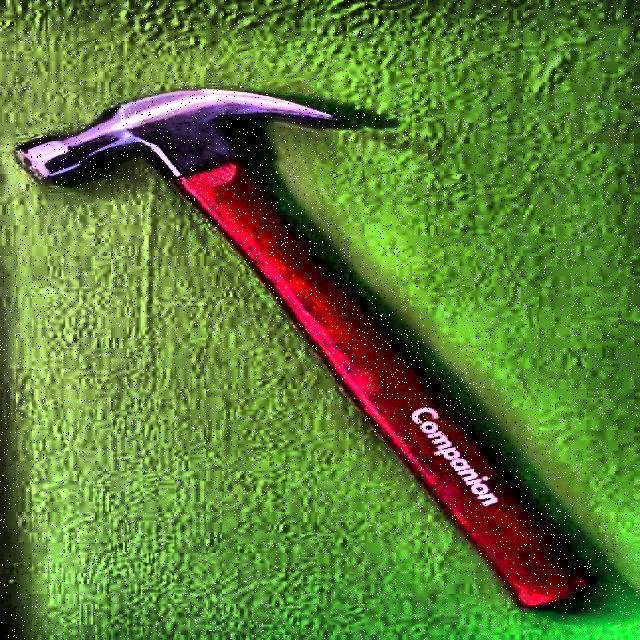hammer: (19, 86, 603, 620)
